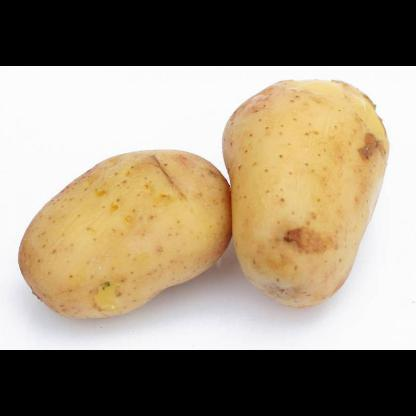potato: (222, 78, 388, 306), (17, 149, 233, 317)
